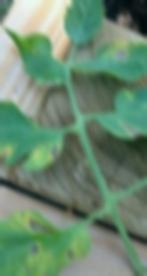Tomato Early blight leaf: (0, 210, 89, 276), (0, 19, 67, 91), (0, 105, 67, 171), (93, 84, 147, 140), (77, 42, 147, 81)
Tomato leaf: (60, 0, 107, 45)
